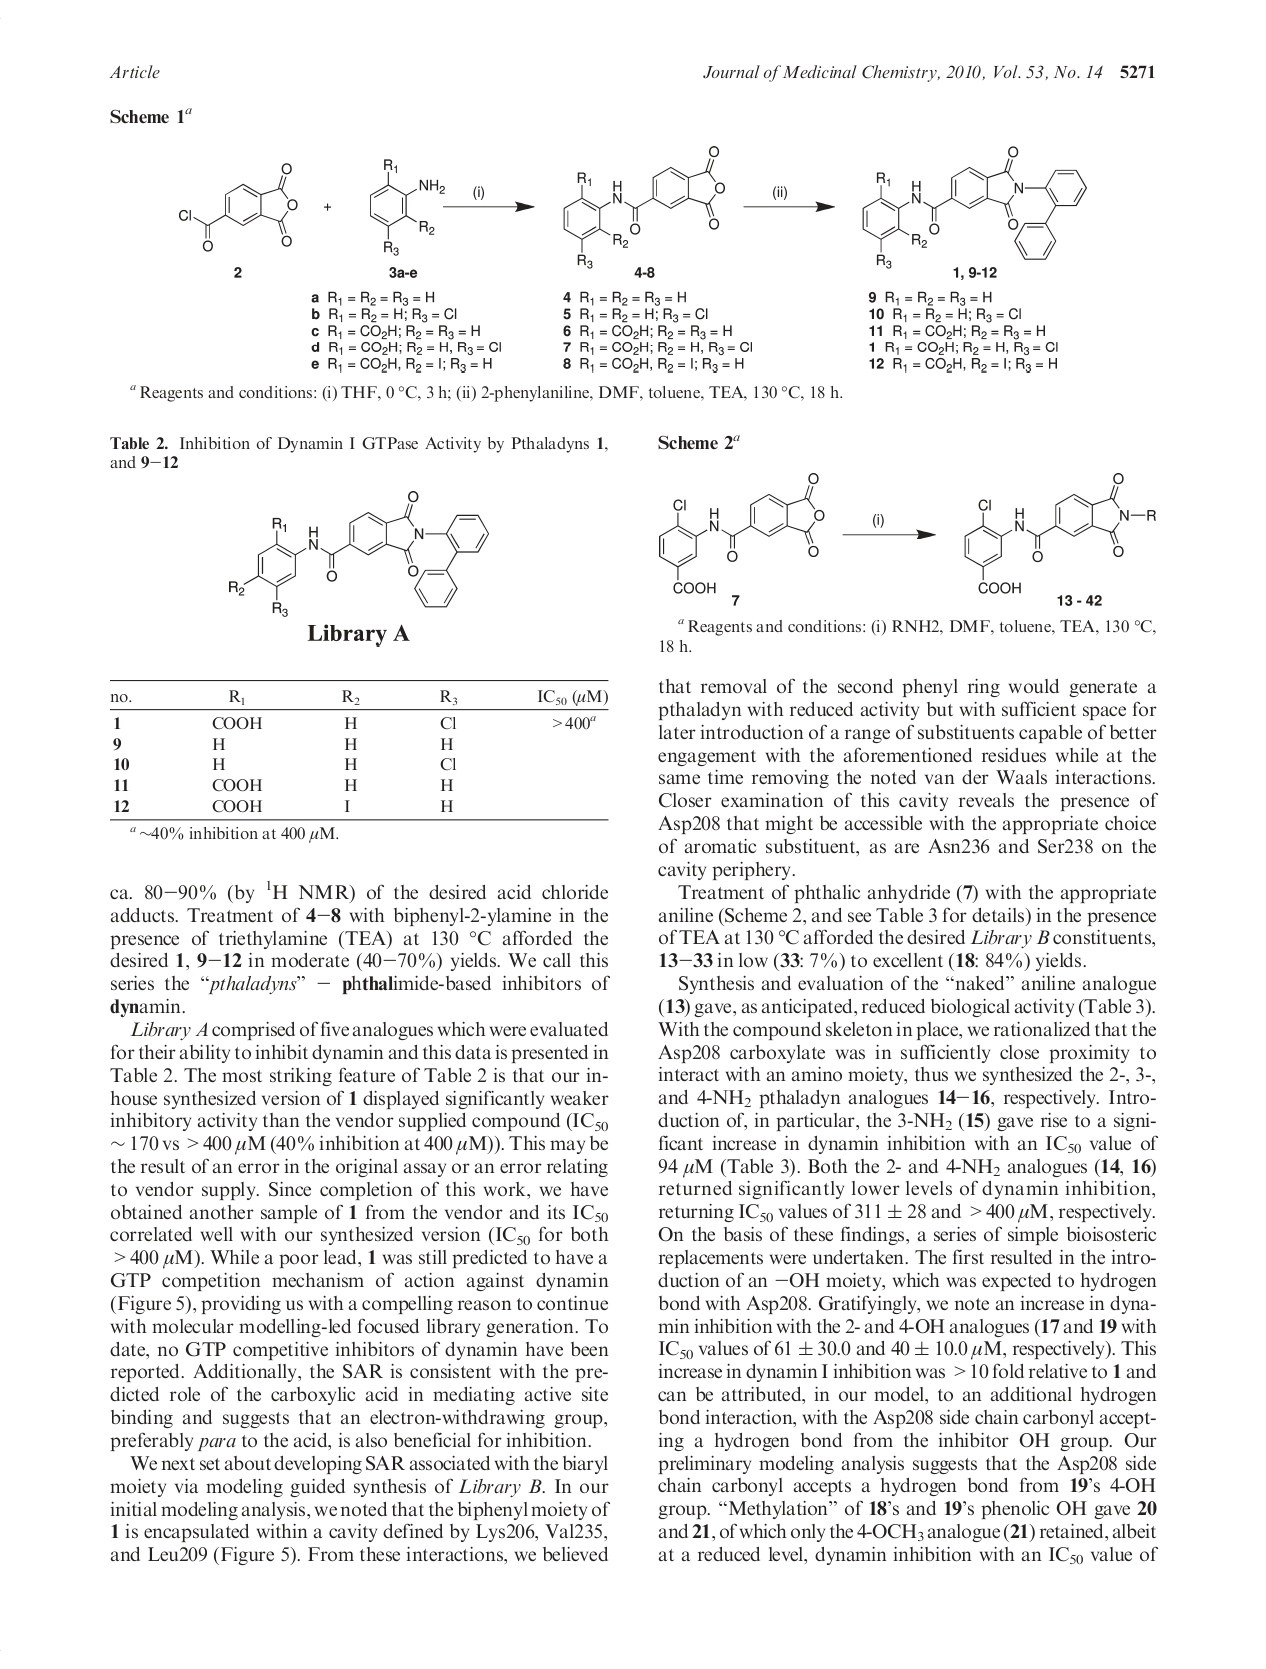exist_molecular: (227, 488, 491, 617), (858, 144, 1086, 267), (961, 469, 1157, 596), (656, 469, 828, 597), (563, 144, 726, 269), (176, 160, 301, 251), (368, 153, 447, 257)
